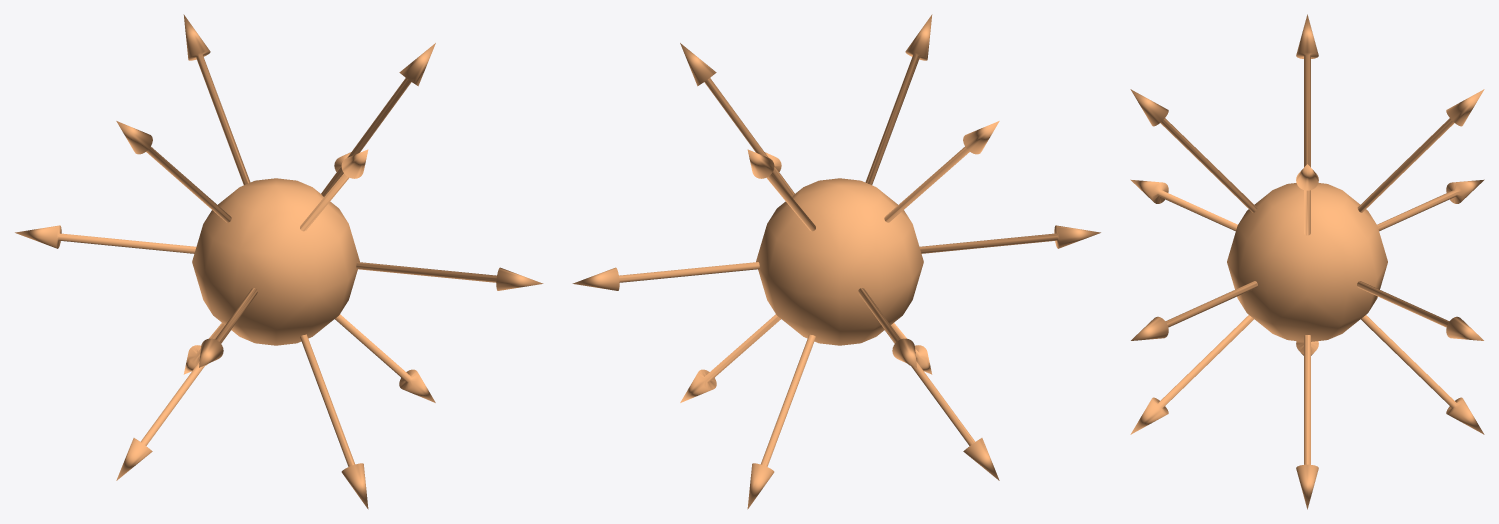
File: PLight.obj
The picture shows the model from 3 angles, left to right: view 1: azimuth 30°, elevation 25°; view 2: azimuth 150°, elevation 25°; view 3: azimuth 270°, elevation 25°; orthographic projection. The views are drawn at different scales.
Visible parts, largest first — view 1: PLight.obj; view 2: PLight.obj; view 3: PLight.obj.
Part boxes in pixels (bbox=[...]): PLight.obj: bbox=[15, 14, 543, 509]; PLight.obj: bbox=[572, 14, 1100, 509]; PLight.obj: bbox=[1130, 14, 1484, 509].
Size of the model in its own units: 2.37 by 2.37 by 2.2.
